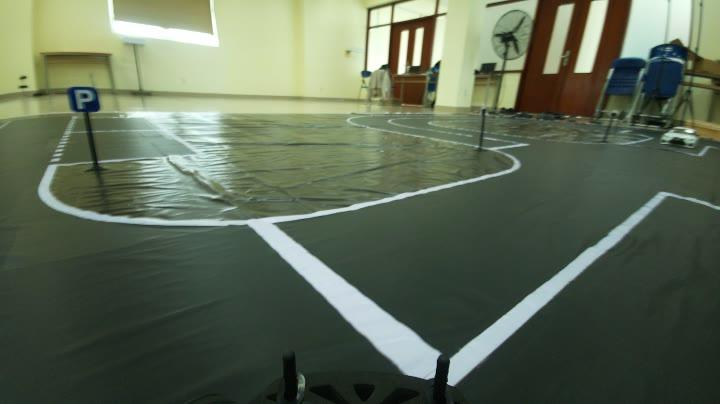parking: (64, 84, 100, 117)
